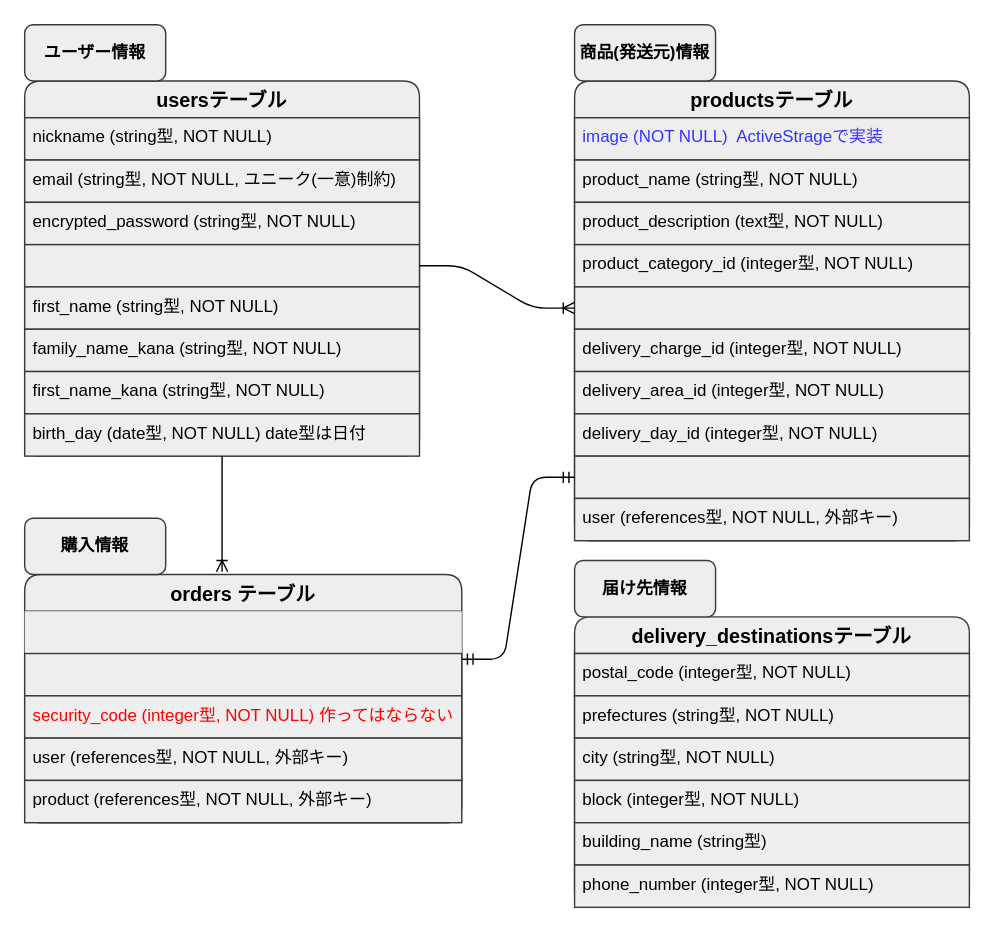
The diagram is 994 pixels wide and 936 high, and some of its shapes have lost their labels. The shapes that lost their labels are listed below. From the top down, each one's centre as x and y in pixels, then its label:
the point at 221,265: family_name (string型, NOT NULL)
the point at 771,307: product_state_id (integer型, NOT NULL)
the point at 771,476: price (integer型, NOT NULL)
the point at 242,632: card_number (integer型, NOT NULL) 作ってはならない
the point at 242,674: expiration_date (date型, NOT NULL) 作ってはならない
